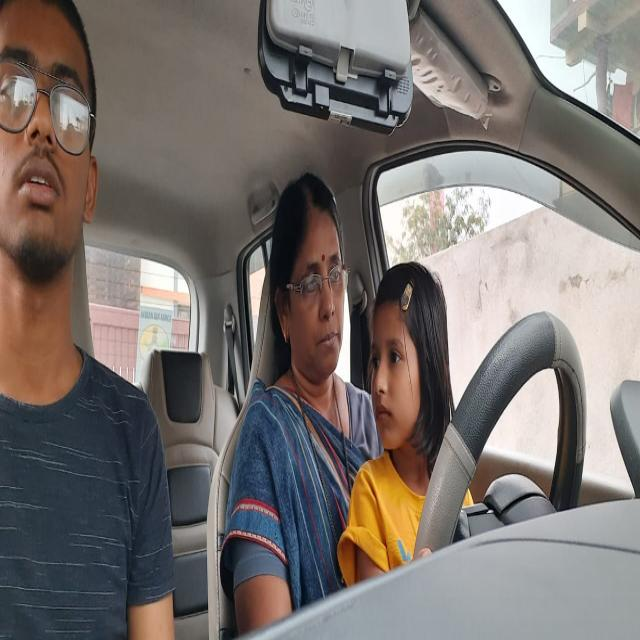child: (366, 259, 460, 473)
person: (0, 0, 102, 294), (265, 172, 355, 390)
